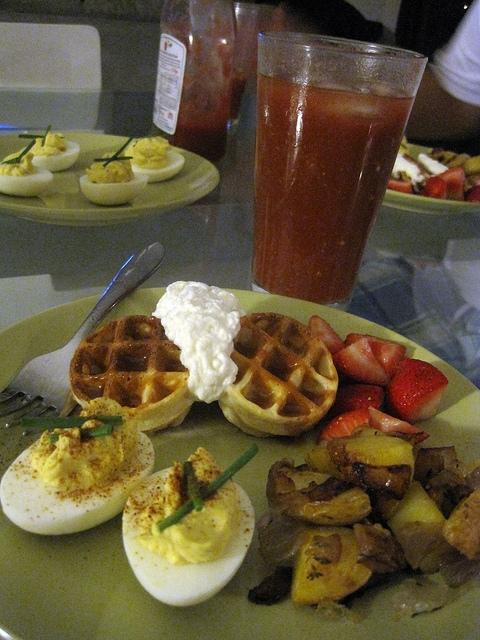potato: (376, 480, 456, 574), (290, 527, 372, 605), (286, 476, 372, 526), (346, 436, 414, 486), (353, 518, 408, 574), (442, 484, 480, 560), (425, 460, 472, 520), (352, 461, 412, 501), (414, 445, 458, 490), (269, 491, 309, 507), (444, 154, 473, 168), (463, 156, 480, 176), (435, 150, 457, 164), (427, 148, 444, 160), (467, 173, 480, 187)
strawberry: (388, 357, 448, 425), (344, 332, 406, 383), (332, 338, 390, 388), (368, 404, 432, 448), (324, 384, 386, 420), (316, 408, 370, 446), (308, 316, 347, 354), (434, 166, 466, 202), (424, 177, 448, 200), (387, 179, 414, 194), (464, 185, 480, 202)
